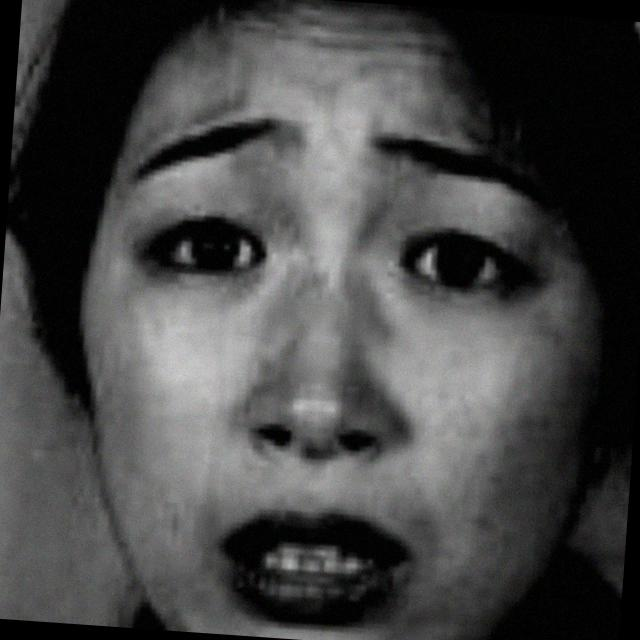fear: (44, 36, 606, 640)
